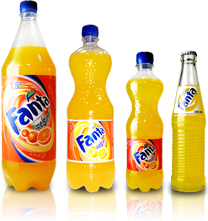Fanta: (1, 1, 55, 199), (64, 23, 120, 198), (122, 41, 165, 199), (170, 42, 208, 194)
